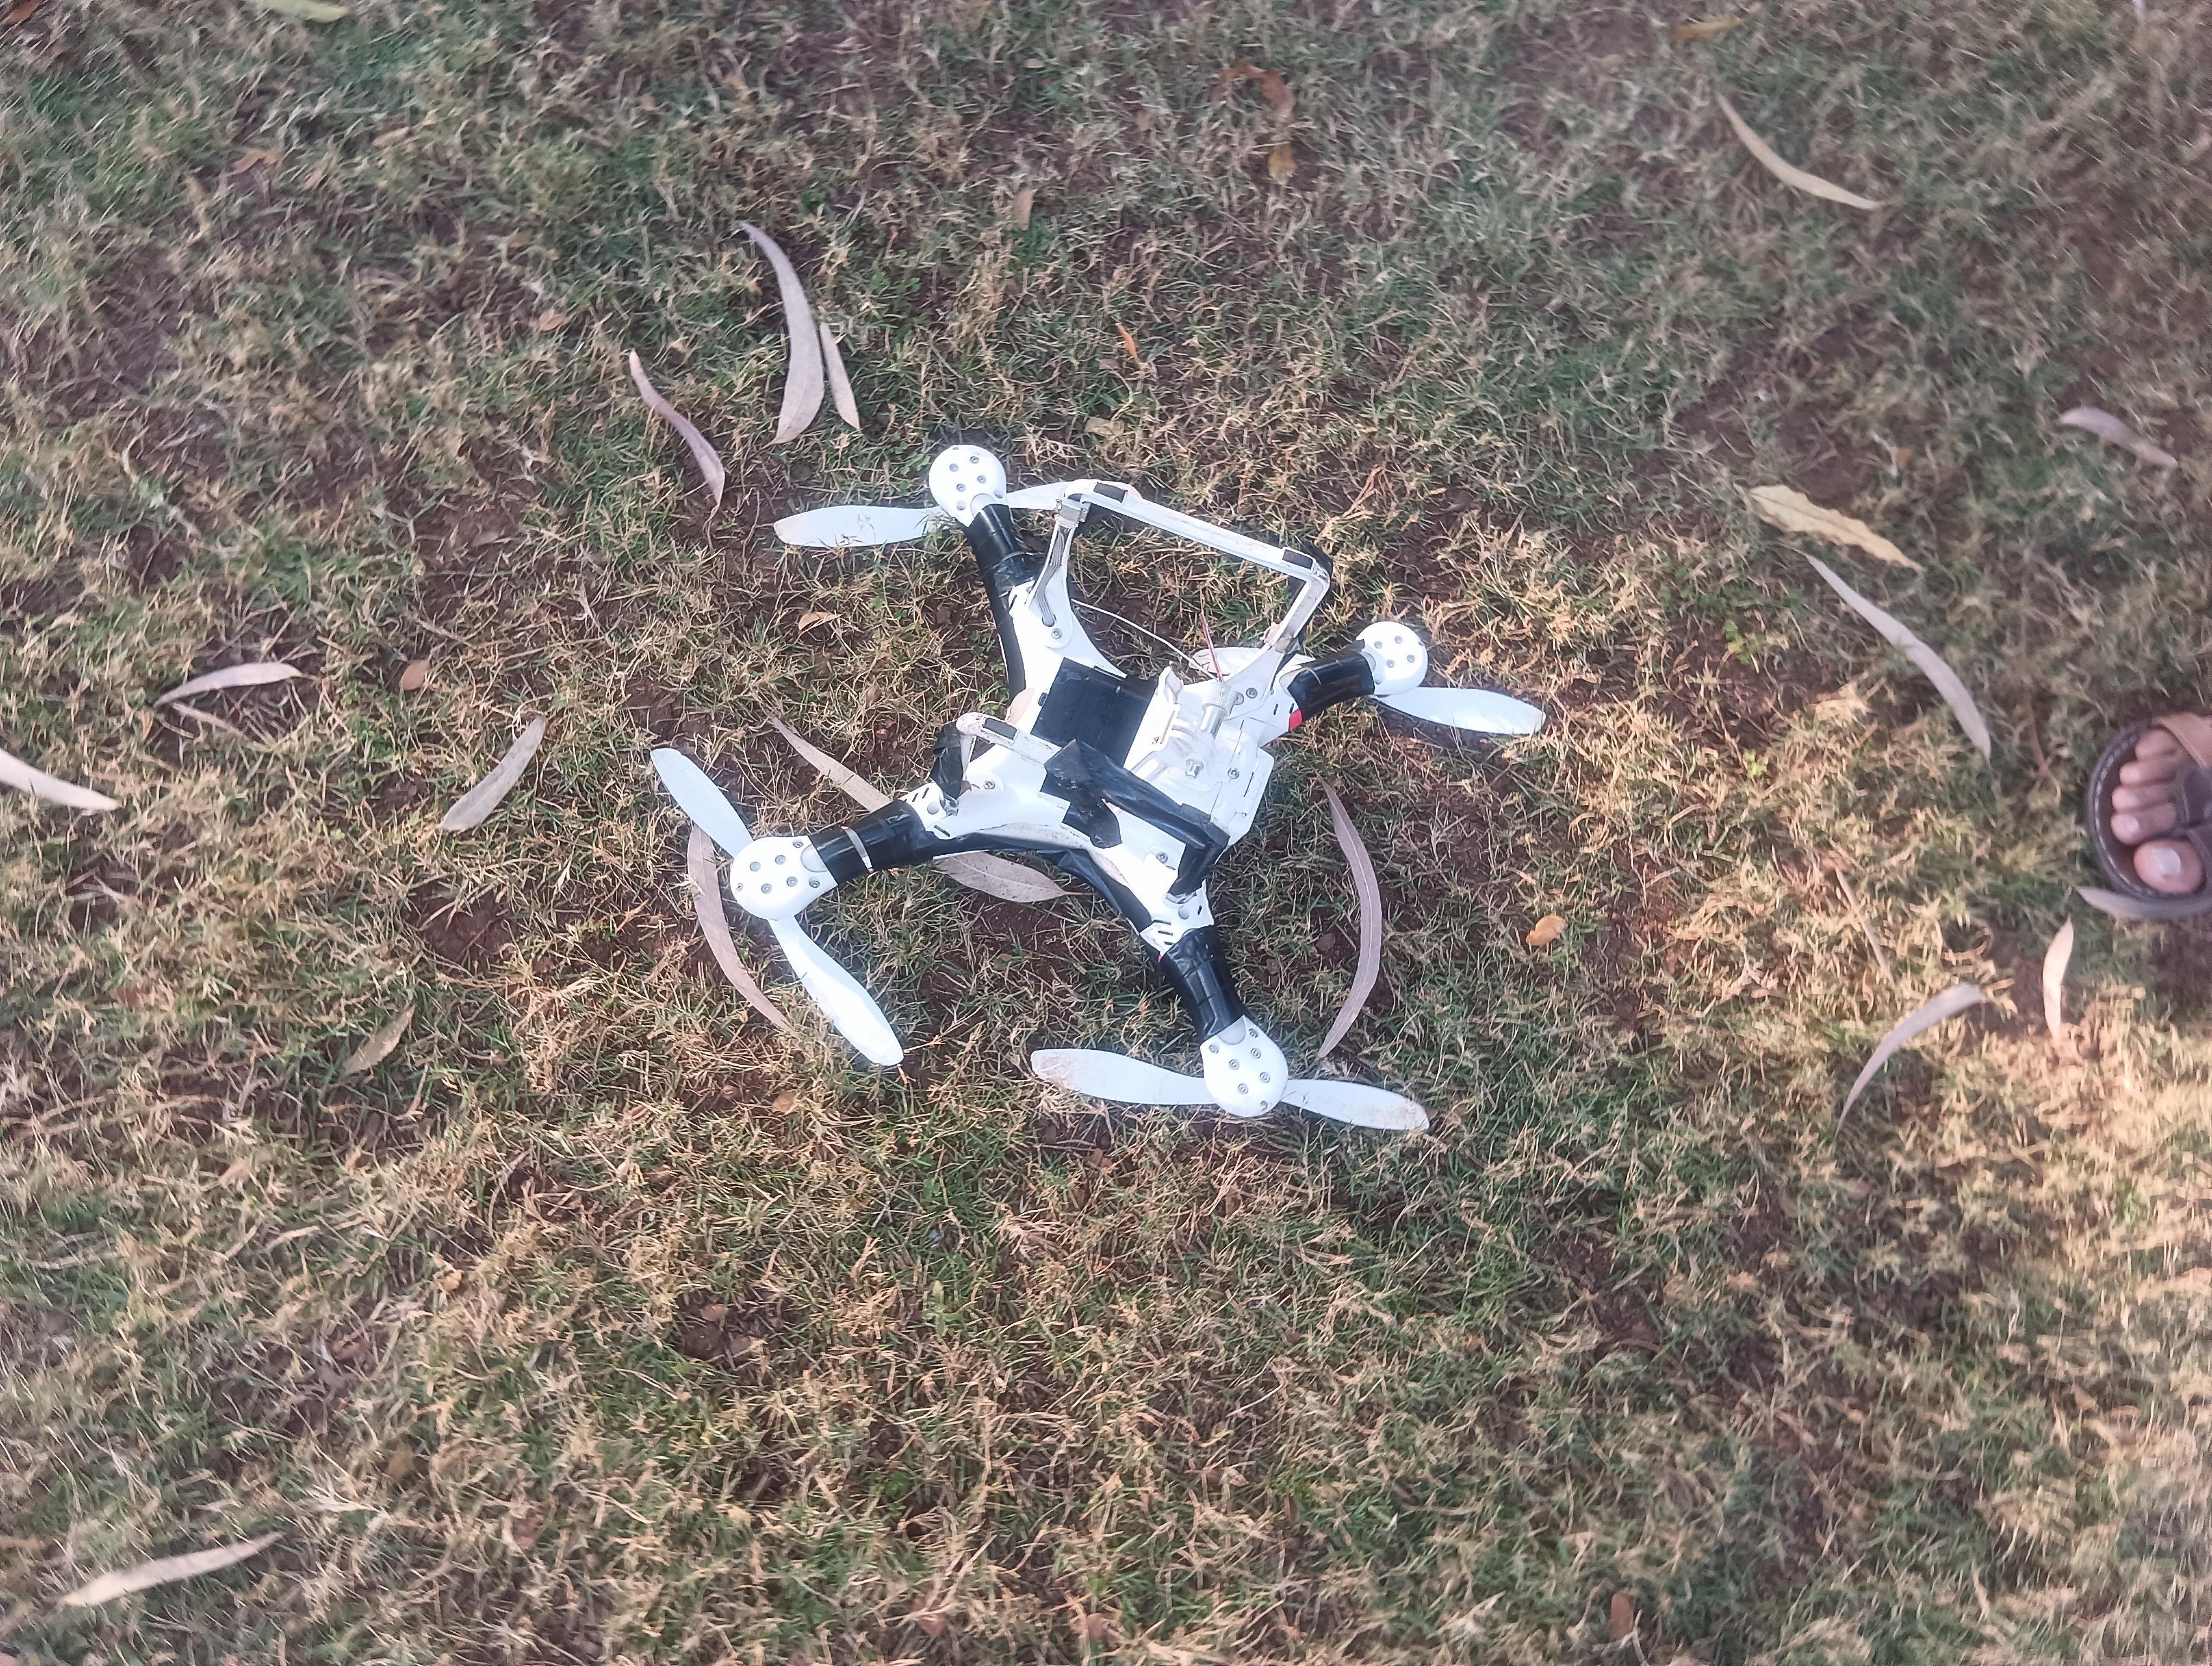drone: (554, 381, 1589, 1199)
